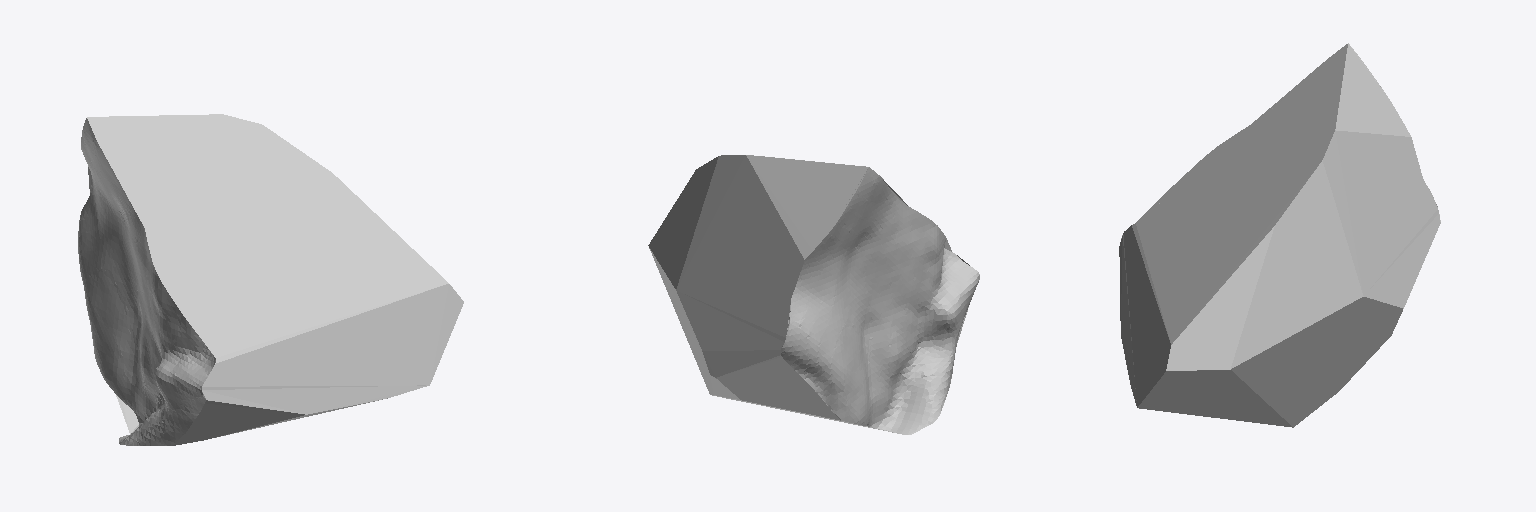
Rendered from low_cell_043.obj.
The picture shows the model from 3 angles: view 1: azimuth 30°, elevation 25°; view 2: azimuth 150°, elevation 25°; view 3: azimuth 270°, elevation 25°; orthographic projection.
Parts seen in each view (by area): view 1: low_cell.043_low_cell.042; view 2: low_cell.043_low_cell.042; view 3: low_cell.043_low_cell.042.
Boxes of the visible parts, x1,y1,x2,y2 form: low_cell.043_low_cell.042: [78, 114, 463, 445]; low_cell.043_low_cell.042: [648, 155, 979, 434]; low_cell.043_low_cell.042: [1119, 43, 1440, 427].
Bounding box in the file's own units: 1.12 × 1.04 × 1.03.